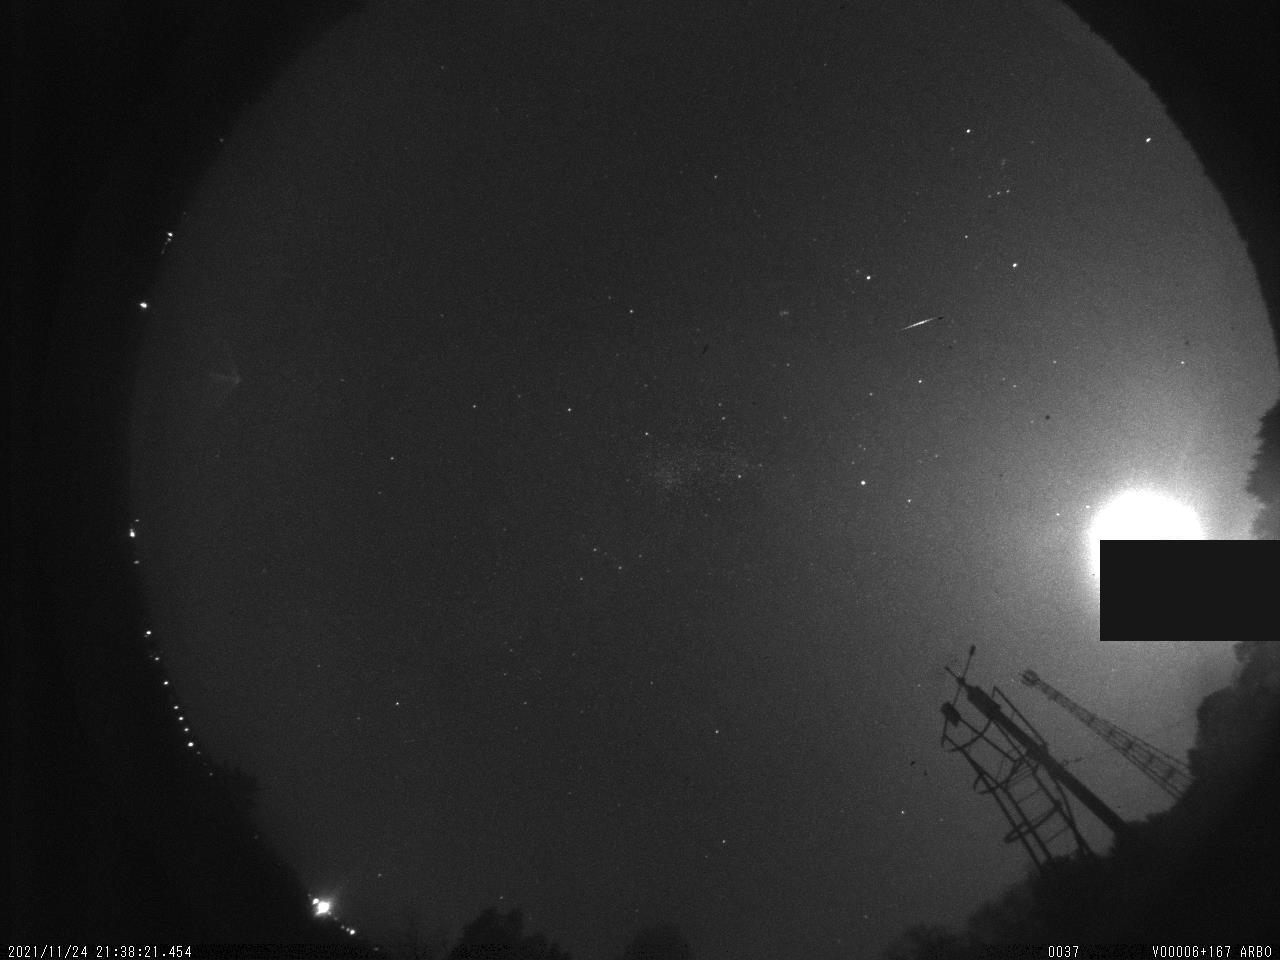meteor: (893, 304, 949, 339)
